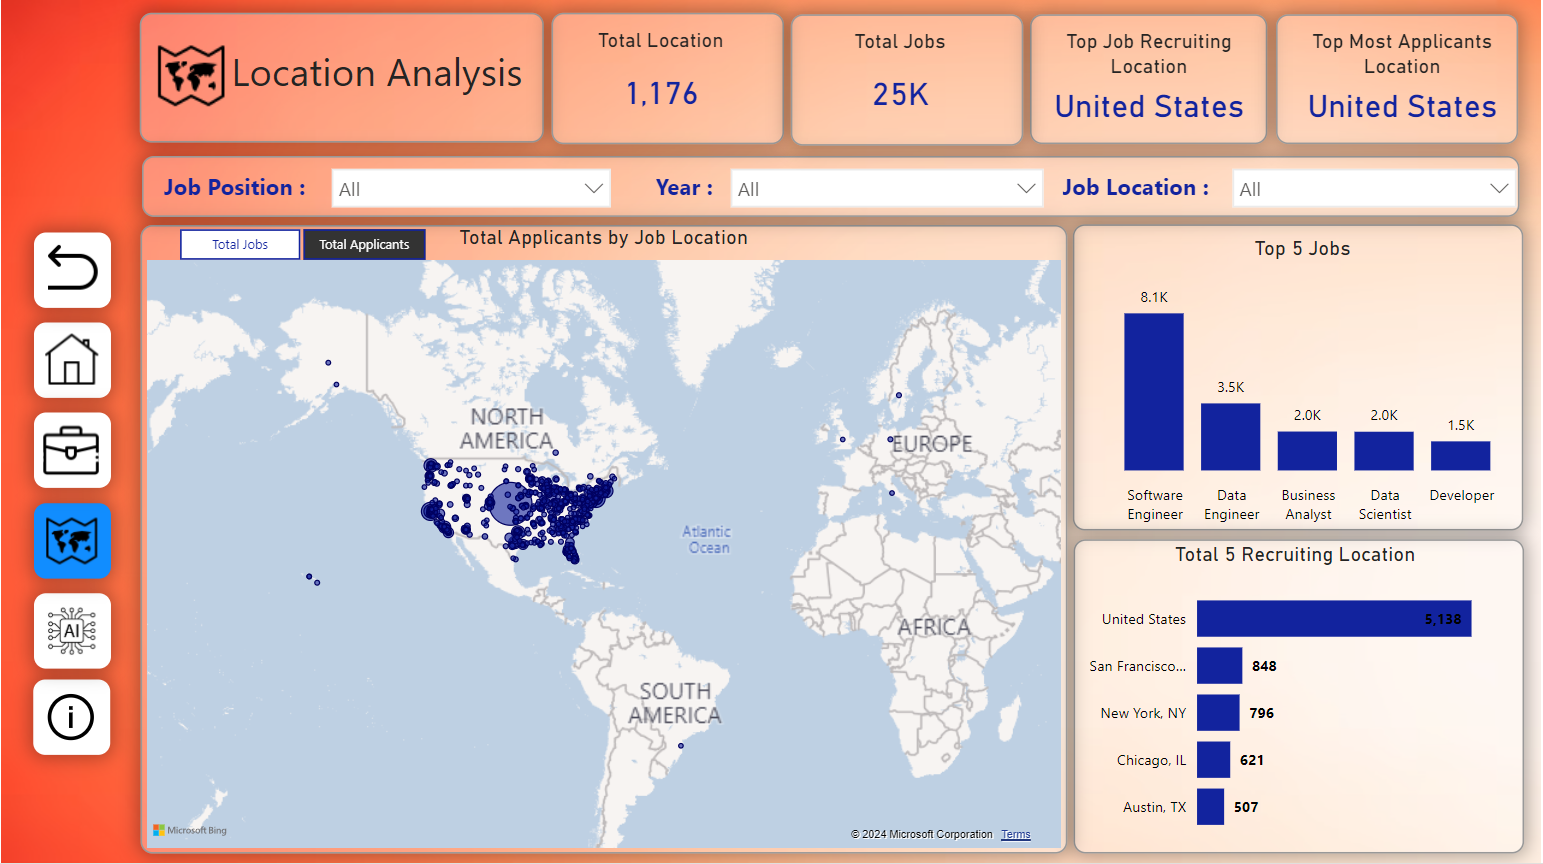

The dashboard page shown, as its layout file describes it:
{"tool":"powerbi","page":{"name":"Location","canvas":[1280,720],"ordinal":2},"visuals":[{"type":"slicer","fields":{"Values":["job_postings.Job Position Level"]},"box":[264.3,132.1,253,50],"z":0,"group":"g12"},{"type":"slicer","fields":{"Values":["job_postings.Year"]},"box":[596.3,132.1,281,50],"z":0,"group":"g13"},{"type":"slicer","fields":{"Values":["job_postings.Job Location"]},"box":[1013.3,132.1,257,51],"z":0,"group":"g14"},{"type":"shape","box":[891,189,375,255],"z":0},{"type":"shape","box":[27.3,495.7,63.8,63],"z":0,"group":"g8"},{"type":"shape","box":[27,567.5,63.6,62.7],"z":0,"group":"g1"},{"type":"textbox","box":[130.3,139.1,144,37],"z":1000,"group":"g12"},{"type":"textbox","box":[539.3,139.1,68,35],"z":1000,"group":"g13"},{"type":"textbox","box":[877.3,139.1,169,40],"z":1000,"group":"g14"},{"type":"shape","box":[27.3,420.8,63.8,63],"z":1000,"group":"g9"},{"type":"shape","box":[892,451,374,261],"z":1000},{"type":"clusteredBarChart","title":"Total 5 Recruiting Location","fields":{"Category":["job_postings.Job Location"],"Y":["_Measure.Total Jobs"]},"box":[886,453,380,257],"z":1000,"group":"g3"},{"type":"actionButton","box":[33.3,574,50,51],"z":1000,"group":"g1"},{"type":"shape","box":[27.3,345.8,63.8,63],"z":2000,"group":"g15"},{"type":"group","id":"g1","title":"Group 15","box":[27,567.5,63.6,62.7],"z":2000},{"type":"columnChart","title":"Top 5 Jobs","fields":{"Category":["job_postings.Job Title"],"Y":["_Measure.Total Jobs"]},"box":[894,198,376,246],"z":3000},{"type":"shape","box":[27.3,270.9,63.8,63],"z":3000,"group":"g10"},{"type":"shape","box":[115.7,189.6,770.2,522.8],"z":4000},{"type":"shape","box":[27.3,196,63.8,63],"z":4000,"group":"g11"},{"type":"shape","box":[115.6,13.3,335.6,107.8],"z":5000},{"type":"shape","box":[117.2,132,1145.6,50],"z":6000,"group":"g2"},{"type":"map","fields":{"Size":["_Measure.Total Applicants"],"Category":["job_postings.Job Location"]},"box":[115.7,189.6,770.2,522.8],"z":6000},{"type":"group","id":"g2","title":"Group 7","box":[117.2,132,1153.1,51.1],"z":7000},{"type":"slicer","fields":{"Values":["Parameter 2.Parameter"]},"box":[122.2,186.7,254.4,35.6],"z":8000},{"type":"textbox","box":[186.7,34.4,264.4,61.1],"z":9000},{"type":"image","box":[122.7,25.9,70.8,79.8],"z":10000},{"type":"group","id":"g3","title":"Group 2","box":[886,453,380,257],"z":11000},{"type":"group","id":"g4","title":"Group 1","box":[458,13,193.3,108.9],"z":12000},{"type":"shape","box":[458,13,193.3,108.9],"z":12000,"group":"g4"},{"type":"shape","box":[656.7,14.4,193.3,108.9],"z":12000,"group":"g7"},{"type":"shape","box":[855.6,14.4,196.7,107.8],"z":12000,"group":"g5"},{"type":"shape","box":[1060,14.4,201.1,107.8],"z":12000,"group":"g6"},{"type":"group","id":"g5","title":"Group 3","box":[855.6,14.4,196.7,107.8],"z":13000},{"type":"card","title":"Total Location","fields":{"Values":["_Measure.Total Job Location"]},"box":[466.9,25.2,164.4,84.4],"z":13000,"group":"g4"},{"type":"card","title":"Total Jobs","fields":{"Values":["_Measure.Total Jobs"]},"box":[665.6,26.6,164.4,84.4],"z":13000,"group":"g7"},{"type":"card","title":"Top Job Recruiting Location","fields":{"Values":["Min(job_postings.Job Location)"]},"box":[861.2,26.6,186.7,83.3],"z":13000,"group":"g5"},{"type":"card","title":"Top Most Applicants Location","fields":{"Values":["Min(job_postings.Job Location)"]},"box":[1064.4,26.6,201.1,83.3],"z":13000,"group":"g6"},{"type":"group","id":"g6","title":"Group 4","box":[1060,14.4,205.6,107.8],"z":14000},{"type":"group","id":"g7","title":"Group 1","box":[656.7,14.4,193.3,108.9],"z":15000},{"type":"group","id":"g8","title":"Group 9","box":[27.3,495.7,63.8,63],"z":16000},{"type":"group","id":"g9","title":"Group 10","box":[27.3,420.8,63.8,63],"z":17000},{"type":"group","id":"g10","title":"Group 13","box":[27.3,270.9,63.8,137.9],"z":18000},{"type":"group","id":"g11","title":"Group 2","box":[27.3,196,63.8,63],"z":19000},{"type":"actionButton","box":[31.3,350.3,58.2,54.1],"z":21000,"group":"g15"},{"type":"image","box":[32.2,201.1,55.6,52.2],"z":22000,"group":"g11"},{"type":"group","id":"g12","title":"Group 6","box":[130.3,132.1,387,50],"z":24000,"group":"g2"},{"type":"actionButton","box":[31.5,425.3,58,54],"z":24000,"group":"g9"},{"type":"group","id":"g13","title":"Group 6","box":[539.3,132.1,338,50],"z":25000,"group":"g2"},{"type":"actionButton","box":[31.5,275.2,58,54],"z":25000,"group":"g10"},{"type":"group","id":"g14","title":"Group 6","box":[877.3,132.1,393,51],"z":26000,"group":"g2"},{"type":"actionButton","box":[31.5,500.2,58,54],"z":26000,"group":"g8"},{"type":"group","id":"g15","title":"Group 11","box":[27.3,345.8,63.8,63],"z":26003,"group":"g10"}]}

Visuals, with their boxes in screenshot pixels (x1, y1, x2, y2), scaled from the page's 1280x720 canvas onto the 1543x864 screenshot:
slicer - job_postings.Job Position Level: select_region(319, 159, 624, 219)
slicer - job_postings.Year: select_region(719, 159, 1058, 219)
slicer - job_postings.Job Location: select_region(1222, 159, 1531, 220)
shape: select_region(1074, 227, 1526, 533)
shape: select_region(33, 595, 110, 670)
shape: select_region(33, 681, 109, 756)
textbox: select_region(157, 167, 331, 211)
textbox: select_region(650, 167, 732, 209)
textbox: select_region(1058, 167, 1261, 215)
shape: select_region(33, 505, 110, 581)
shape: select_region(1075, 541, 1526, 854)
"Total 5 Recruiting Location" clusteredBarChart: select_region(1068, 544, 1526, 852)
actionButton: select_region(40, 689, 100, 750)
shape: select_region(33, 415, 110, 491)
"Group 15" group: select_region(33, 681, 109, 756)
"Top 5 Jobs" columnChart: select_region(1078, 238, 1531, 533)
shape: select_region(33, 325, 110, 401)
shape: select_region(139, 228, 1068, 855)
shape: select_region(33, 235, 110, 311)
shape: select_region(139, 16, 544, 145)
shape: select_region(141, 158, 1522, 218)
map - _Measure.Total Applicants x job_postings.Job Location: select_region(139, 228, 1068, 855)
"Group 7" group: select_region(141, 158, 1531, 220)
slicer - Parameter 2.Parameter: select_region(147, 224, 454, 267)
textbox: select_region(225, 41, 544, 115)
image: select_region(148, 31, 233, 127)
"Group 2" group: select_region(1068, 544, 1526, 852)
"Group 1" group: select_region(552, 16, 785, 146)
shape: select_region(552, 16, 785, 146)
shape: select_region(792, 17, 1025, 148)
shape: select_region(1031, 17, 1269, 147)
shape: select_region(1278, 17, 1520, 147)
"Group 3" group: select_region(1031, 17, 1269, 147)
"Total Location" card: select_region(563, 30, 761, 132)
"Total Jobs" card: select_region(802, 32, 1001, 133)
"Top Job Recruiting Location" card: select_region(1038, 32, 1263, 132)
"Top Most Applicants Location" card: select_region(1283, 32, 1526, 132)
"Group 4" group: select_region(1278, 17, 1526, 147)
"Group 1" group: select_region(792, 17, 1025, 148)
"Group 9" group: select_region(33, 595, 110, 670)
"Group 10" group: select_region(33, 505, 110, 581)
"Group 13" group: select_region(33, 325, 110, 491)
"Group 2" group: select_region(33, 235, 110, 311)
actionButton: select_region(38, 420, 108, 485)
image: select_region(39, 241, 106, 304)
"Group 6" group: select_region(157, 159, 624, 219)
actionButton: select_region(38, 510, 108, 575)
"Group 6" group: select_region(650, 159, 1058, 219)
actionButton: select_region(38, 330, 108, 395)
"Group 6" group: select_region(1058, 159, 1531, 220)
actionButton: select_region(38, 600, 108, 665)
"Group 11" group: select_region(33, 415, 110, 491)
